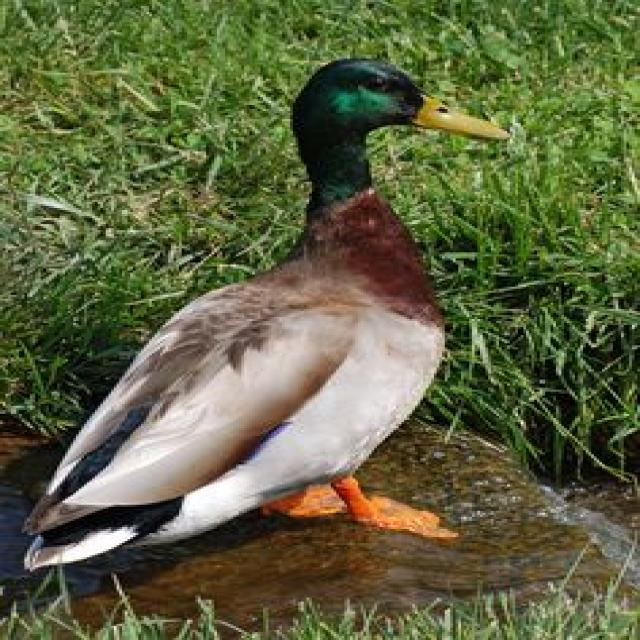Herbivorous: (22, 59, 513, 573)
